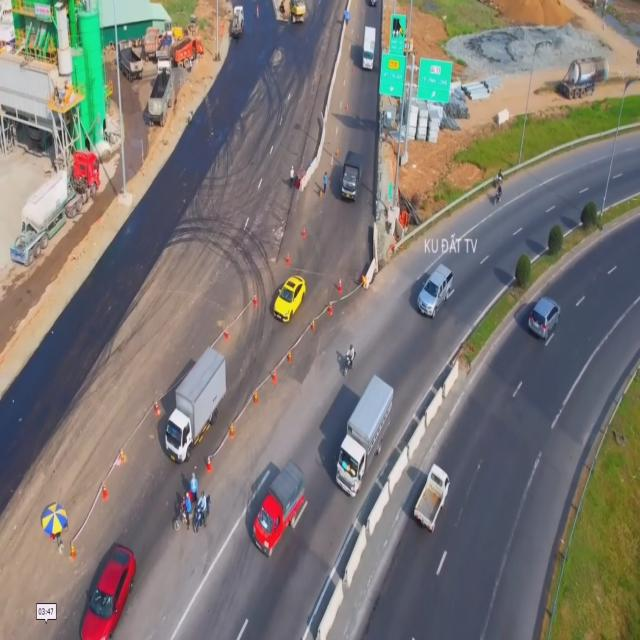car: (78, 542, 135, 640), (417, 260, 455, 320), (271, 272, 307, 322), (527, 293, 560, 345)
motorbike: (171, 499, 197, 536), (194, 493, 212, 532), (342, 344, 355, 378)
truck: (332, 370, 393, 498), (164, 343, 227, 464), (252, 460, 308, 560), (414, 458, 451, 536), (342, 146, 363, 202), (362, 24, 376, 70)
